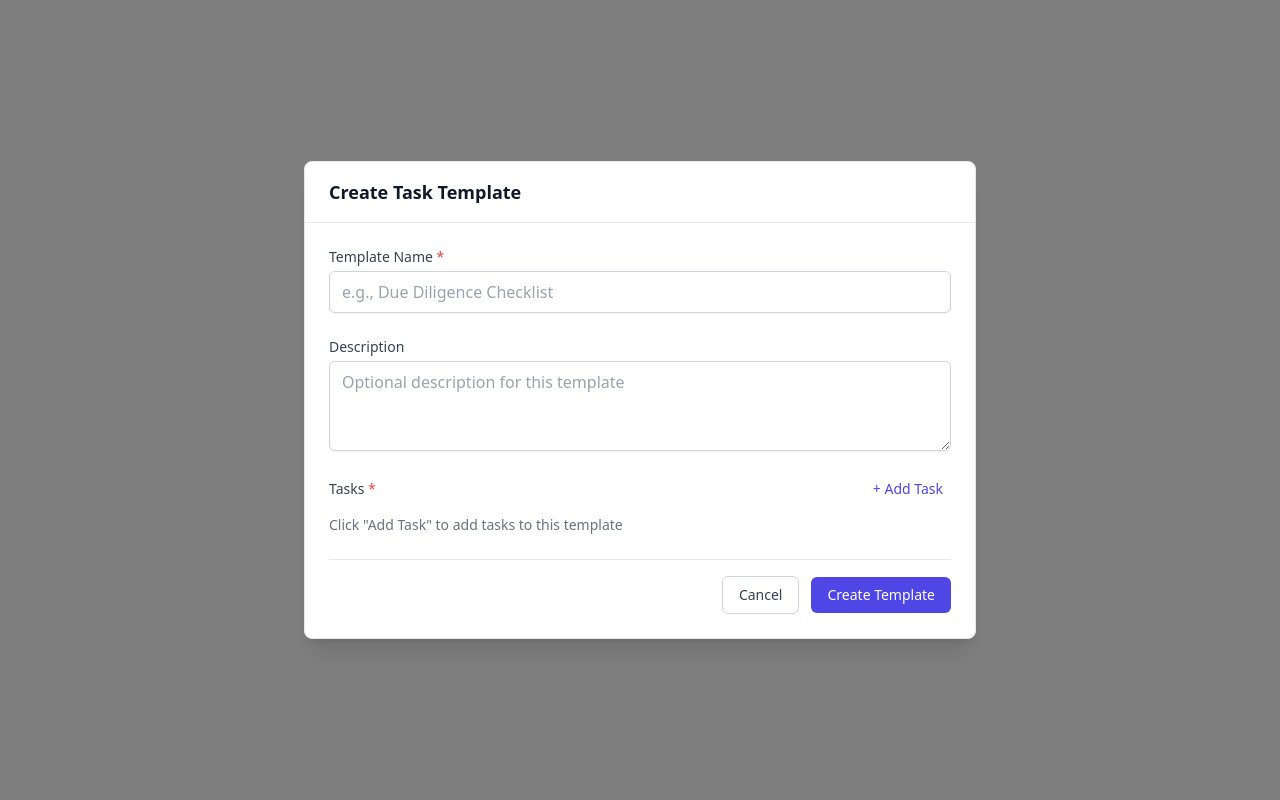
Test: TaskTemplateModal › validates that template name is required
Click the button "Create Template" at (881, 595), box [812,577,951,613]
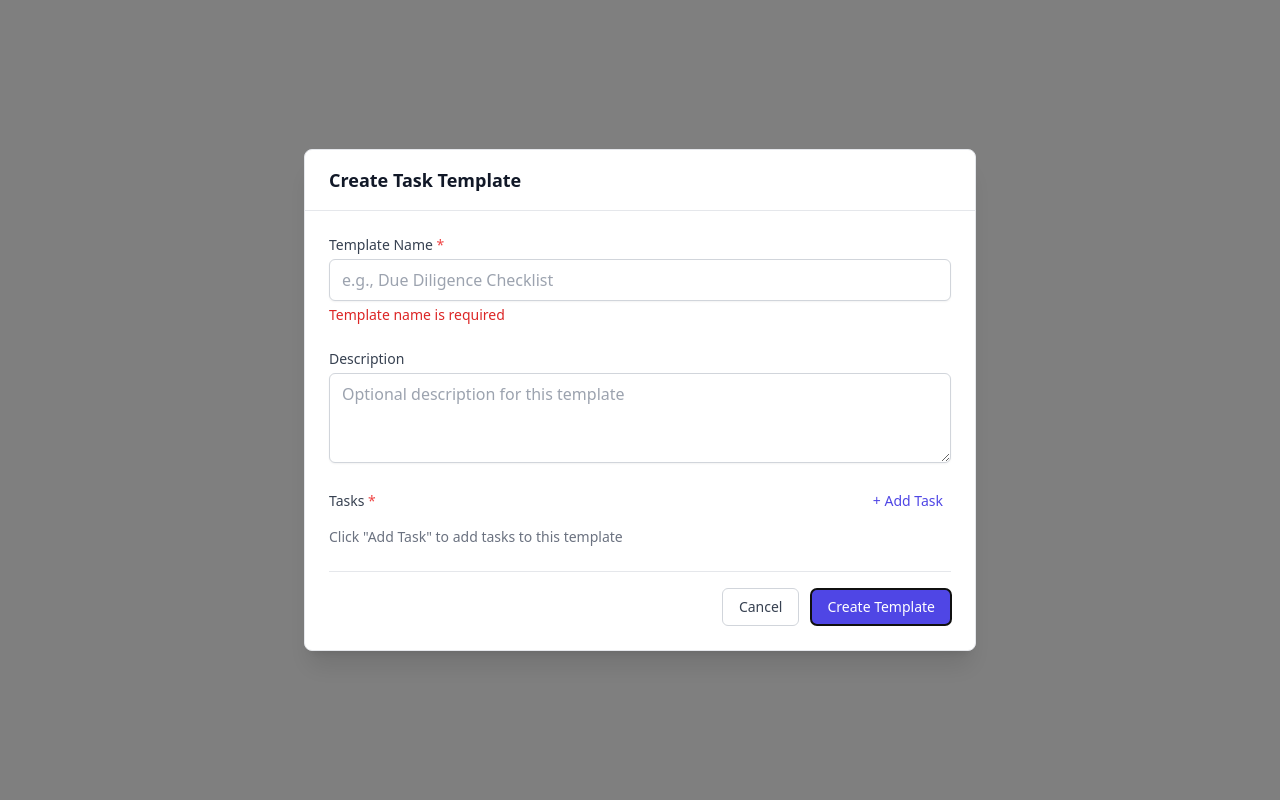
Result: the text "Template name is required" is shown at [329,305,505,324]
